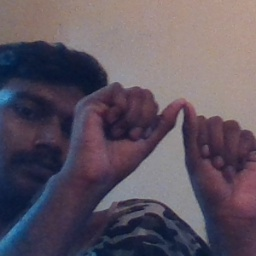A: (106, 77, 247, 195)
